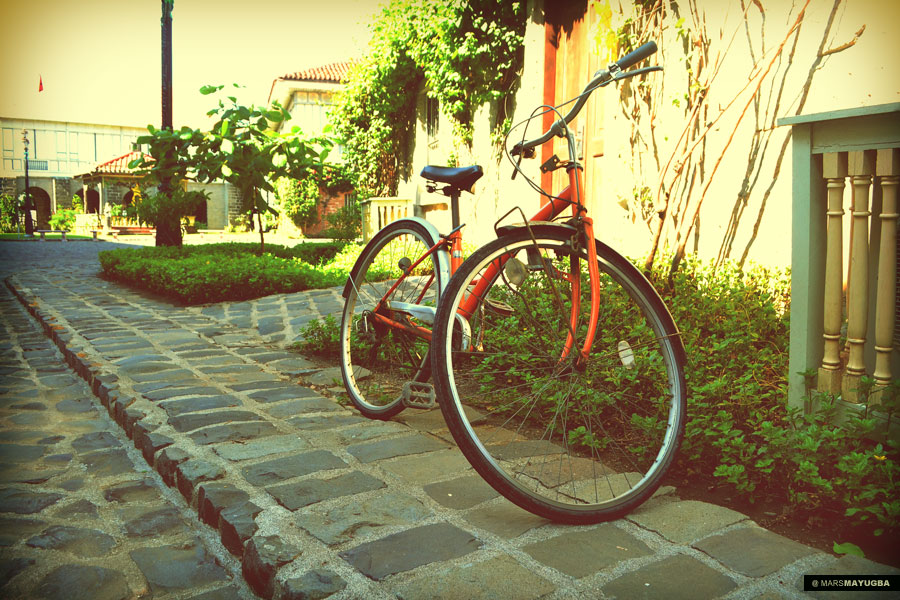bicycle: (317, 40, 710, 530)
